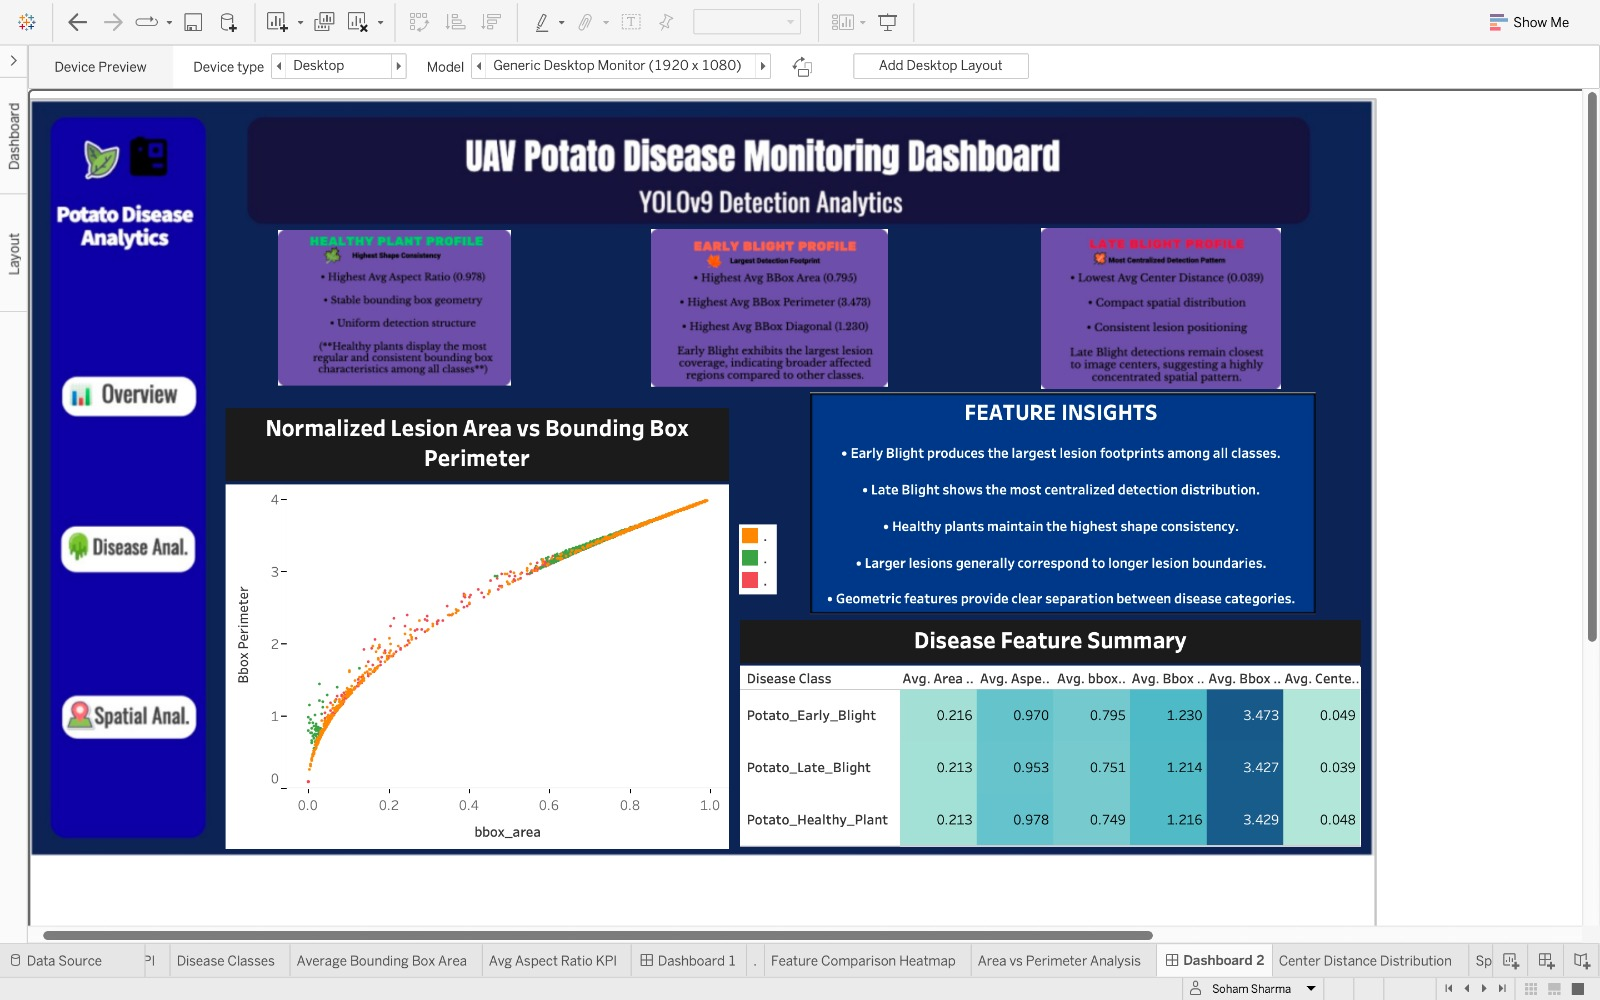

The page's visual inventory and layout, read from the dashboard file:
{"tool":"tableau","page":{"name":"Dashboard 2","canvas":[1920,1080],"ordinal":1},"visuals":[{"type":"image","param":"/Users/sohamsharma/Downloads/iitprojectdashboard.png","box":[3,10,1209,854]},{"type":"image","param":"/Users/sohamsharma/Downloads/profile_2.png","box":[912,125,220,145]},{"type":"image","param":"/Users/sohamsharma/Downloads/profile_1.png","box":[561,126,213,146]},{"type":"image","param":"/Users/sohamsharma/Downloads/profile_3.png","box":[225,127,210,142]},{"type":"dashboard-object","box":[30,257,115,40]},{"type":"image","param":"/Users/sohamsharma/Downloads/feature_bg.png","box":[704,273,455,203]},{"type":"text","box":[711,274,438,202]},{"type":"worksheet","title":"Area vs Perimeter Analysis","mark":"Circle","rows":["bbox_perimeter"],"cols":["bbox_area"],"box":[178,287,453,397]},{"type":"legend","title":"Area vs Perimeter Analysis","param":"[federated.0jp4ded0v0g09k1fq8xtg0br4p9o].[none:disease_class:nk]","box":[640,392,34,63]},{"type":"worksheet","title":"Feature Comparison Heatmap","mark":"Square","rows":["disease_class"],"box":[641,478,560,206]},{"type":"dashboard-object","box":[25,545,121,41]}]}

Visuals, with their boxes on the page's 1920x1080 design canvas (x1, y1, x2, y2). These are canvas units, not pixel positions in the 1600x1000 screenshot, which may show the page scaled, cropped or inside an application window:
image: BBox(3, 10, 1212, 864)
image: BBox(912, 125, 1132, 270)
image: BBox(561, 126, 774, 272)
image: BBox(225, 127, 435, 269)
dashboard-object: BBox(30, 257, 145, 297)
image: BBox(704, 273, 1159, 476)
text: BBox(711, 274, 1149, 476)
"Area vs Perimeter Analysis" worksheet (Circle marks): BBox(178, 287, 631, 684)
"Area vs Perimeter Analysis" legend: BBox(640, 392, 674, 455)
"Feature Comparison Heatmap" worksheet (Square marks): BBox(641, 478, 1201, 684)
dashboard-object: BBox(25, 545, 146, 586)
